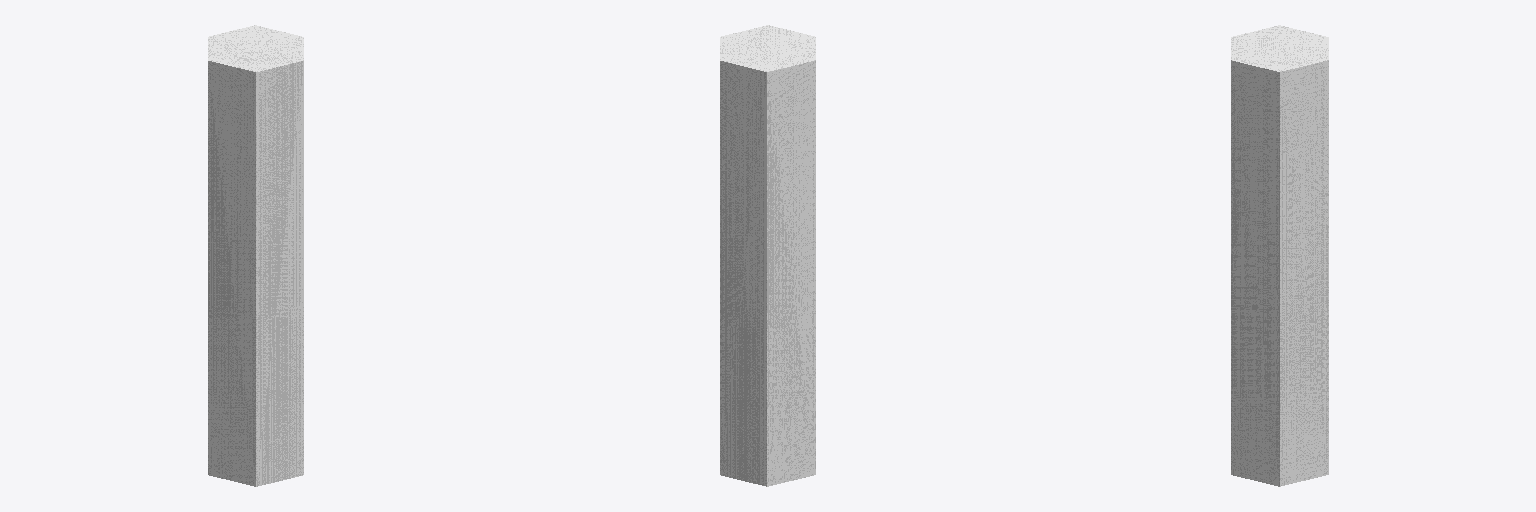
The model's file is MeasuringCylinder_Liquid.obj.
3 renders of one model, left to right at view 1: azimuth 30°, elevation 25°; view 2: azimuth 150°, elevation 25°; view 3: azimuth 270°, elevation 25°, orthographic.
Visible parts, largest first — view 1: Mesh1 Model; view 2: Mesh1 Model; view 3: Mesh1 Model.
Part boxes in pixels (x1,y1,x2,y2): Mesh1 Model: (208, 25, 303, 486); Mesh1 Model: (720, 25, 815, 486); Mesh1 Model: (1231, 25, 1328, 486).
Size of the model in its own units: 0.0267 by 0.11 by 0.0234.